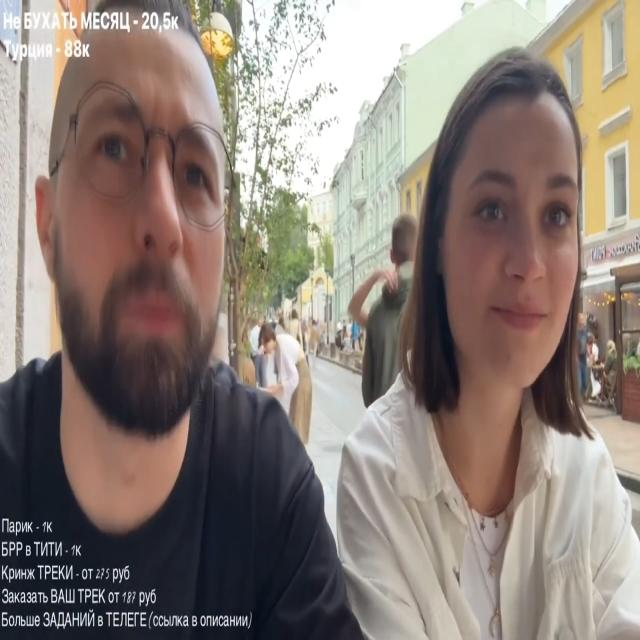Person: (0, 2, 359, 638), (318, 40, 640, 640), (348, 212, 418, 412), (250, 322, 308, 438)
